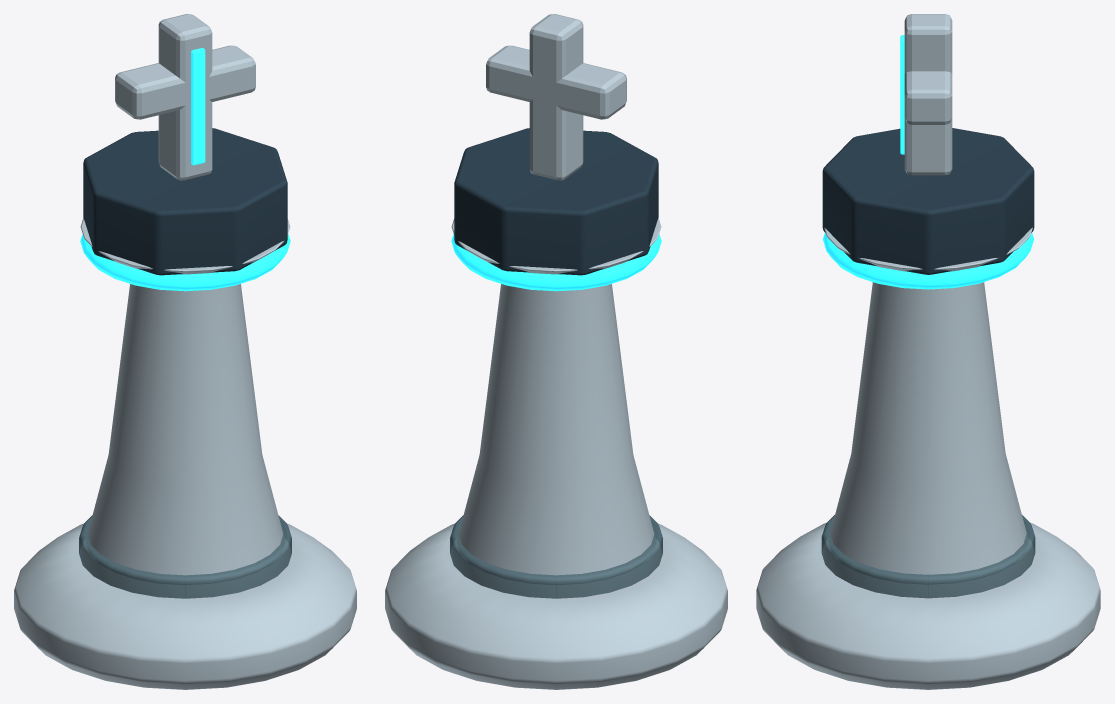
3 renders of one model, left to right at view 1: azimuth 30°, elevation 25°; view 2: azimuth 150°, elevation 25°; view 3: azimuth 270°, elevation 25°, orthographic.
Visible parts, largest first — view 1: SciFi_k_w; view 2: SciFi_k_w; view 3: SciFi_k_w.
Part boxes in pixels (box(x1,y1,x2,y2)): SciFi_k_w: box(14, 14, 356, 689); SciFi_k_w: box(385, 14, 727, 689); SciFi_k_w: box(756, 14, 1100, 689).
Bounding box in the file's own units: 0.58 × 1.12 × 0.58.
